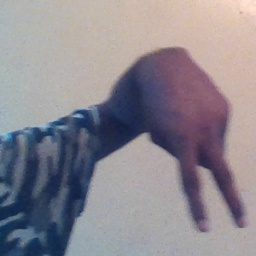Y: (141, 63, 249, 241)
